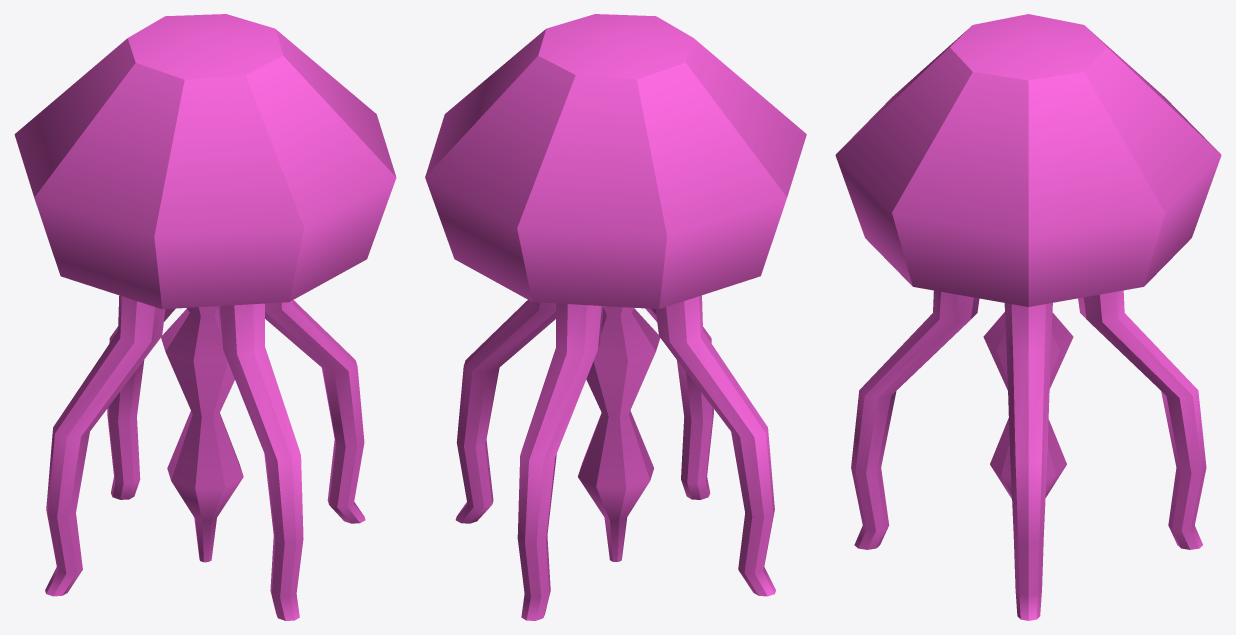
File: jellyfish_pink.glb
3 renders of one model, left to right at view 1: azimuth 30°, elevation 25°; view 2: azimuth 150°, elevation 25°; view 3: azimuth 270°, elevation 25°, orthographic. The views are drawn at different scales.
Parts seen in each view (by area): view 1: pCylinder6; view 2: pCylinder6; view 3: pCylinder6.
Boxes of the visible parts, x1,y1,x2,y2 form: pCylinder6: (14,14,396,620); pCylinder6: (425,14,806,620); pCylinder6: (835,14,1221,620).
Bounding box in the file's own units: 0.4289 × 0.6281 × 0.4289.
1 material, 1 textured.
